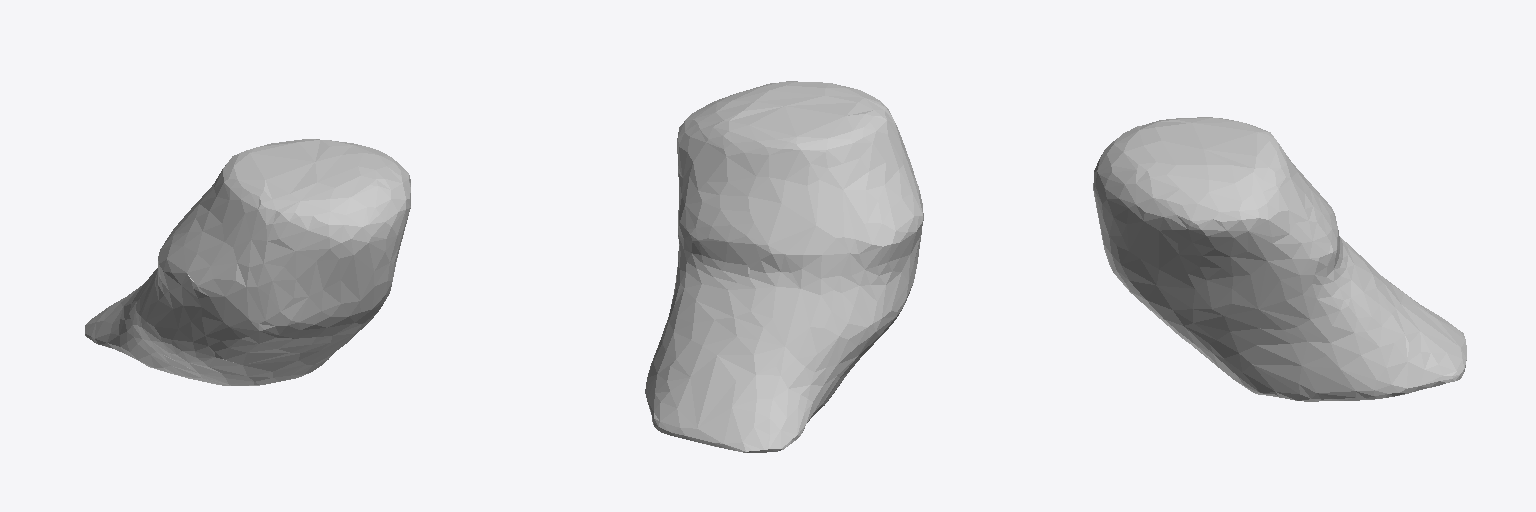
The picture shows the model from 3 angles: view 1: azimuth 30°, elevation 25°; view 2: azimuth 150°, elevation 25°; view 3: azimuth 270°, elevation 25°; orthographic projection.
Parts seen in each view (by area): view 1: Polygonal_Model_4_Triangles_0; view 2: Polygonal_Model_4_Triangles_0; view 3: Polygonal_Model_4_Triangles_0.
Part boxes in pixels (x1,y1,x2,y2): Polygonal_Model_4_Triangles_0: (85, 139, 410, 385); Polygonal_Model_4_Triangles_0: (645, 81, 923, 452); Polygonal_Model_4_Triangles_0: (1093, 117, 1466, 401).
Size of the model in its own units: 0.3981 by 0.3949 by 0.5719.